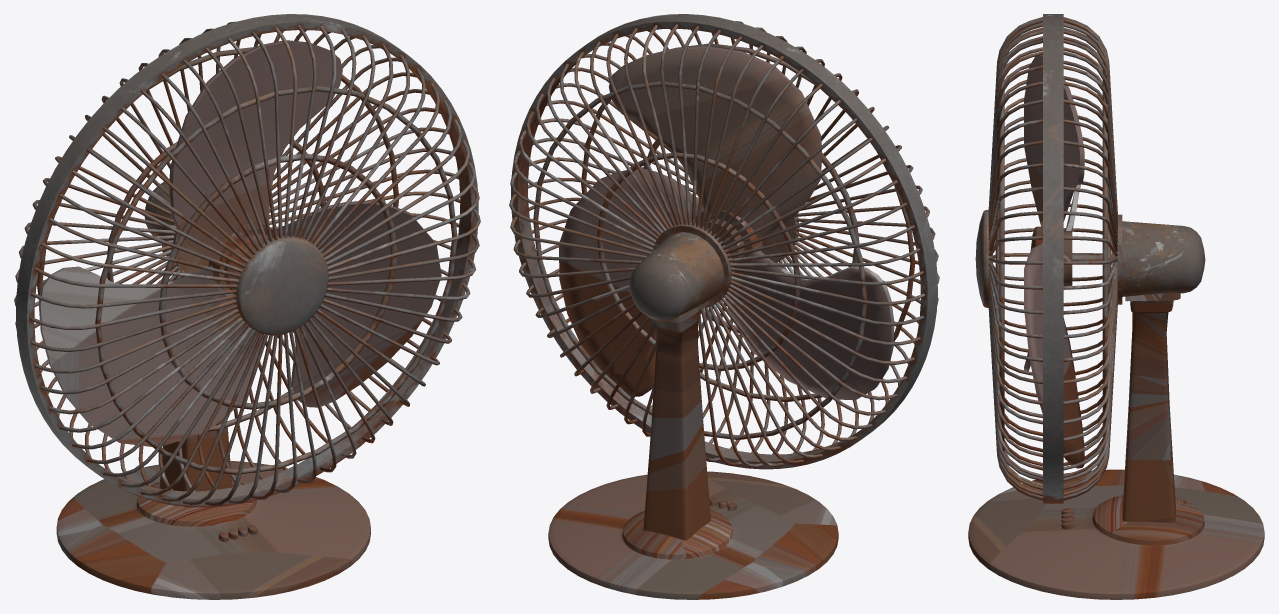
The model's file is Old fan.fbx.
3 views of the same model, side by side, from view 1: azimuth 30°, elevation 25°; view 2: azimuth 150°, elevation 25°; view 3: azimuth 270°, elevation 25° (orthographic). The views are drawn at different scales.
Parts seen in each view (by area): view 1: SM_Fan, Fanpart, SM_Fan.002, SM_Fan.001; view 2: SM_Fan, Fanpart, SM_Fan.002, SM_Fan.001; view 3: SM_Fan, SM_Fan.002, SM_Fan.001, Fanpart.
Boxes of the visible parts, x1,y1,x2,y2 form: SM_Fan: [14, 14, 480, 542]; Fanpart: [38, 40, 441, 446]; SM_Fan.002: [56, 461, 370, 599]; SM_Fan.001: [159, 246, 232, 491]; SM_Fan: [509, 14, 939, 510]; Fanpart: [559, 46, 894, 400]; SM_Fan.002: [548, 471, 838, 599]; SM_Fan.001: [643, 301, 710, 540]; SM_Fan: [975, 14, 1205, 529]; SM_Fan.002: [968, 469, 1264, 599]; SM_Fan.001: [1123, 292, 1180, 523]; Fanpart: [1024, 55, 1084, 468].
Bounding box in the file's own units: 70.58 × 79.66 × 42.73.
Materials: 8 (8 with a texture image).
